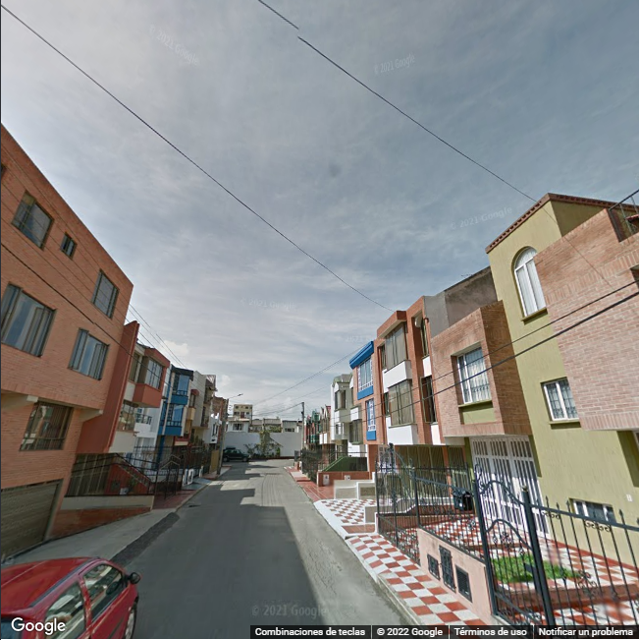D00: (301, 537, 329, 592)
